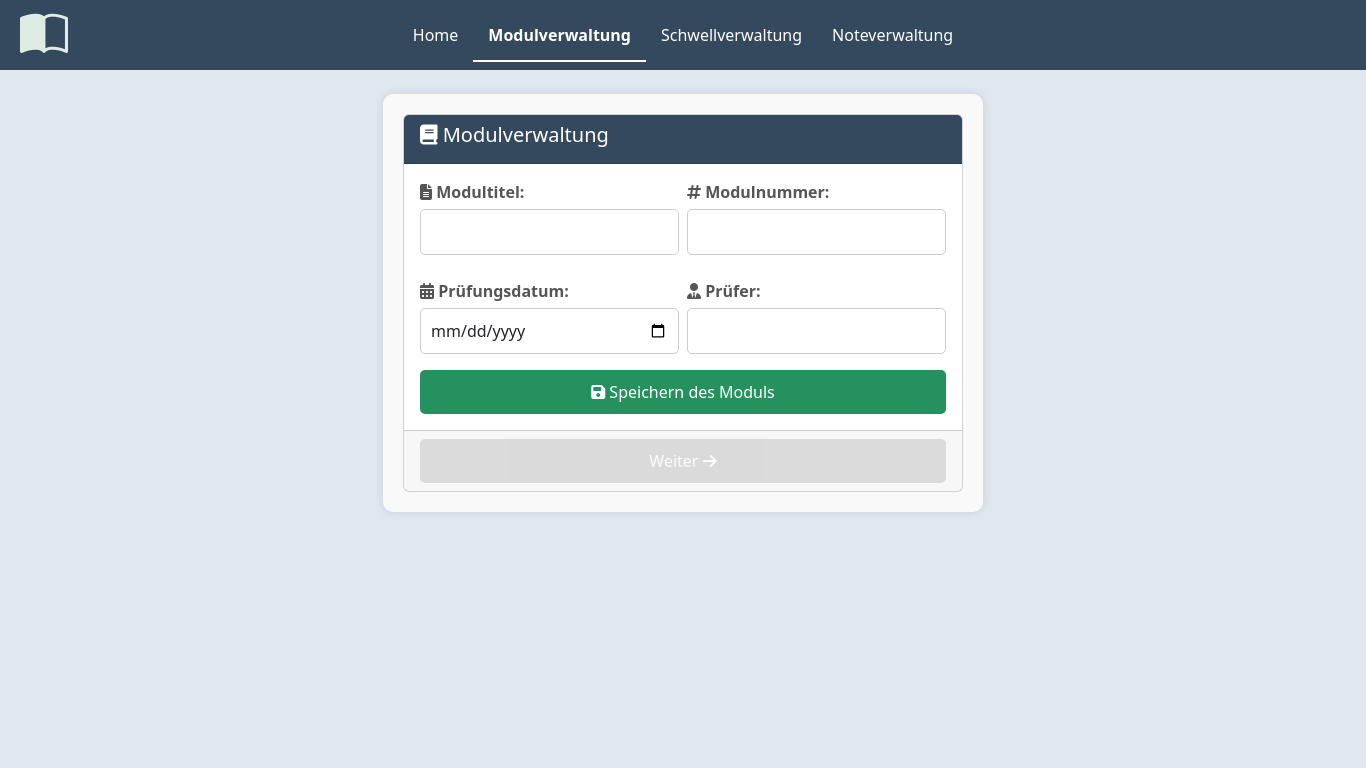
Test case: Modulverwaltung – Formular › füllt ein Modul korrekt aus und speichert es
// Formular ausfüllen
Type "Analysis I" into the field with id "moduleTitle" at [550, 232], box [420,209,679,255]
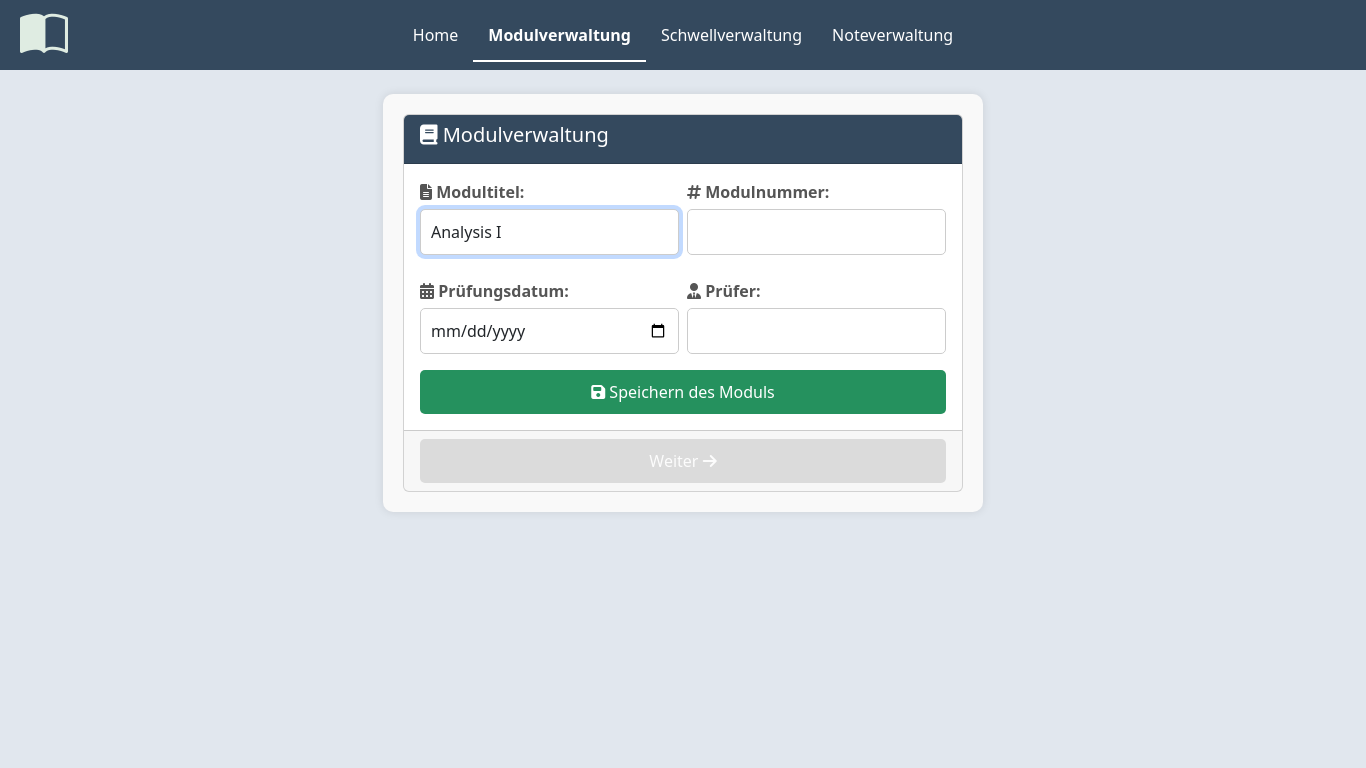
Type "MATH101" into the field with id "moduleNumber" at [817, 232], box [687,209,946,255]
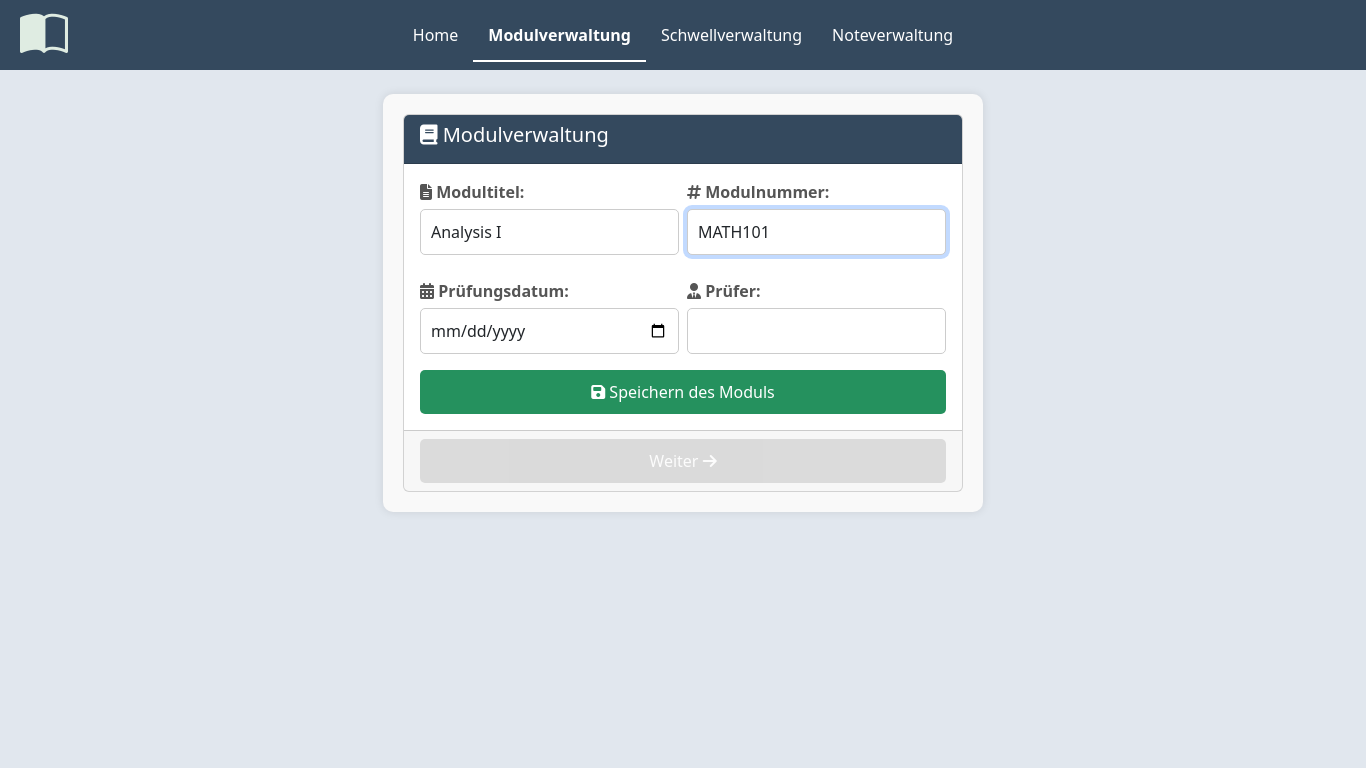
Type "2025-05-22" into the date field with id "examDate" at [550, 331], box [420,308,679,354]
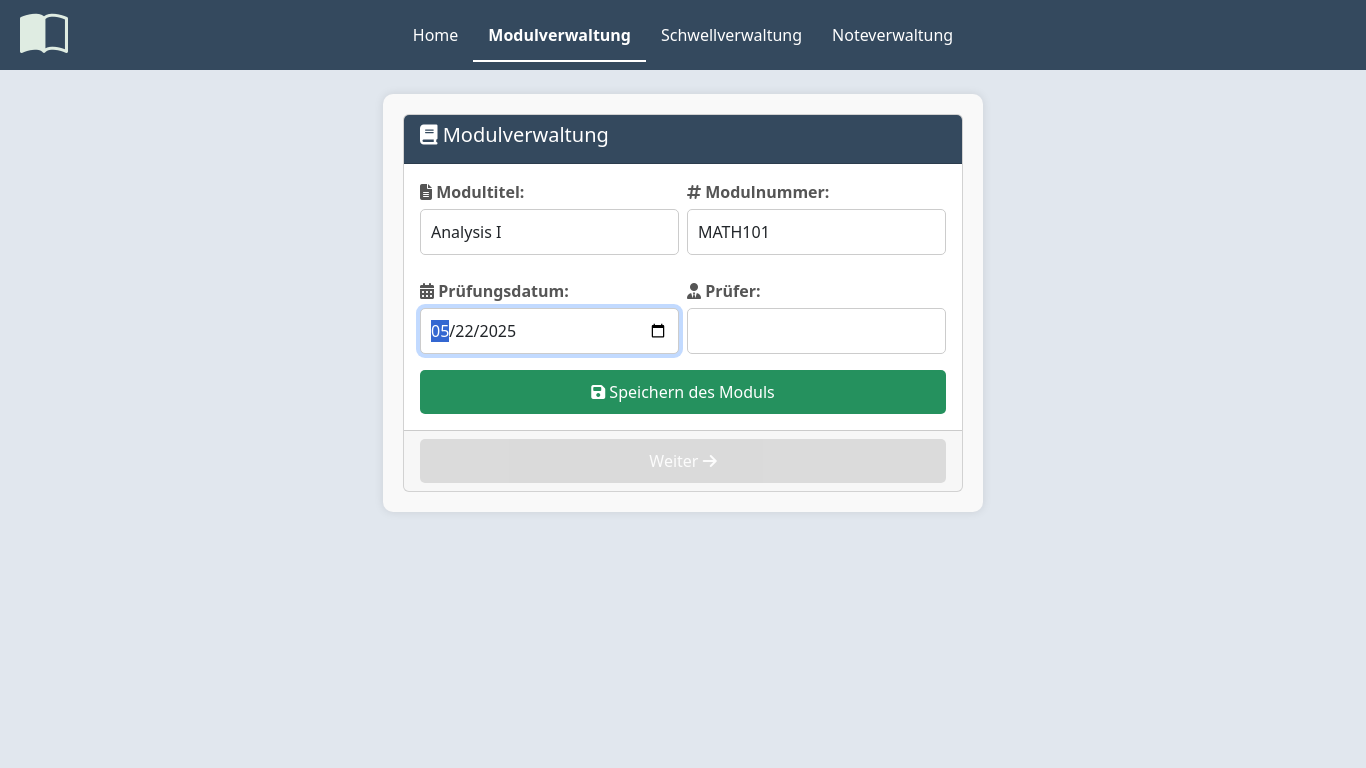
Type "Dr. Müller" into the field with id "examiners" at [817, 331], box [687,308,946,354]
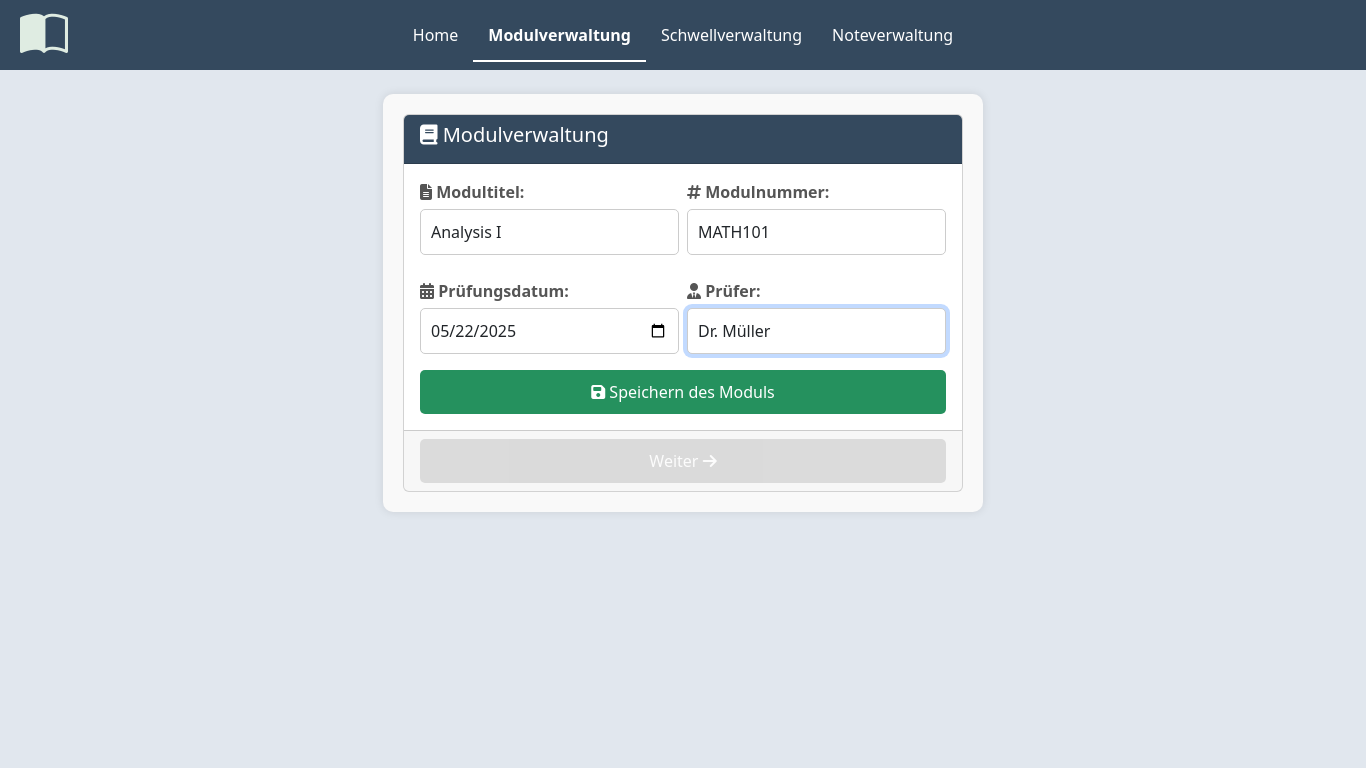
// Auf Speichern klicken
Click the button "Speichern des Moduls" at [683, 392], box [420,370,946,414]
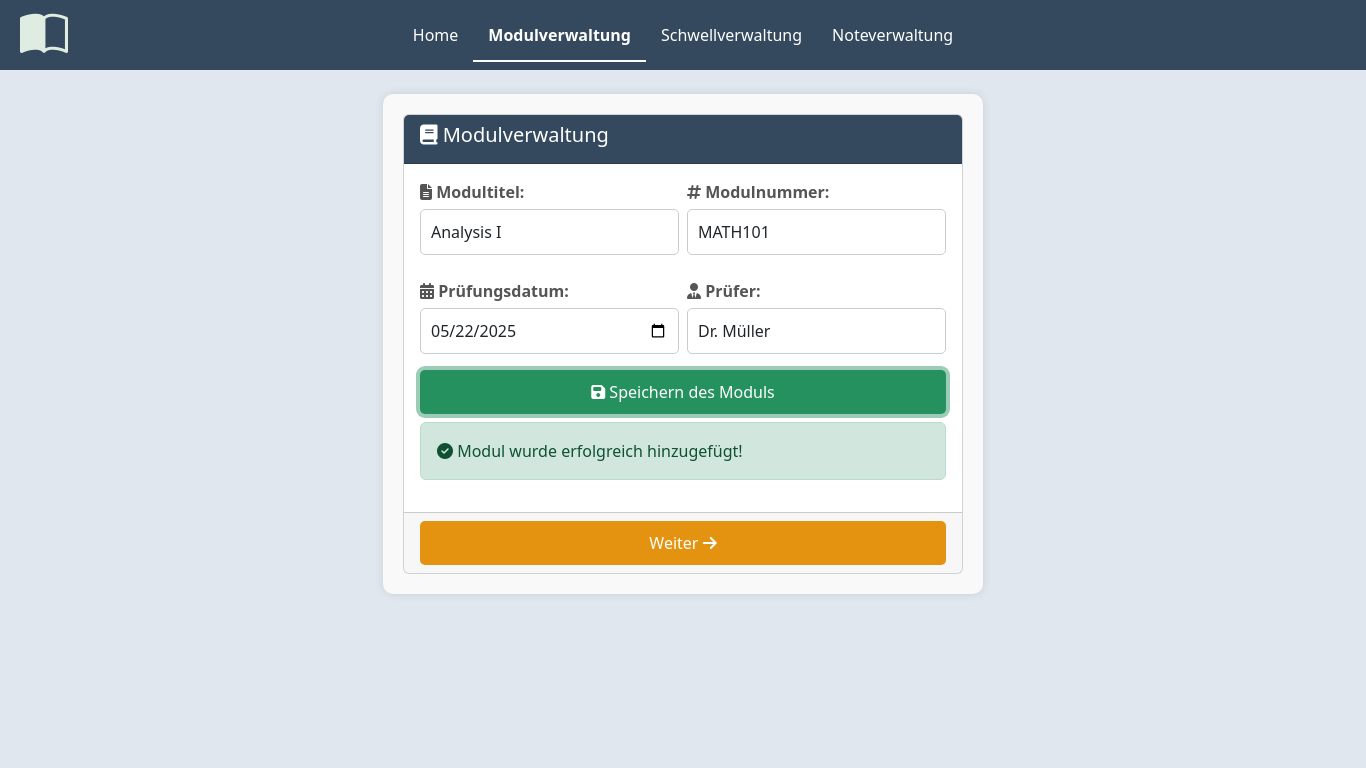
expect the text "Weiter" is enabled: met
expect the element with class "alert-success" is shown: met, box [420,422,946,480]
